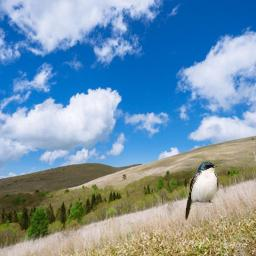Swallow: (185, 159, 220, 220)
